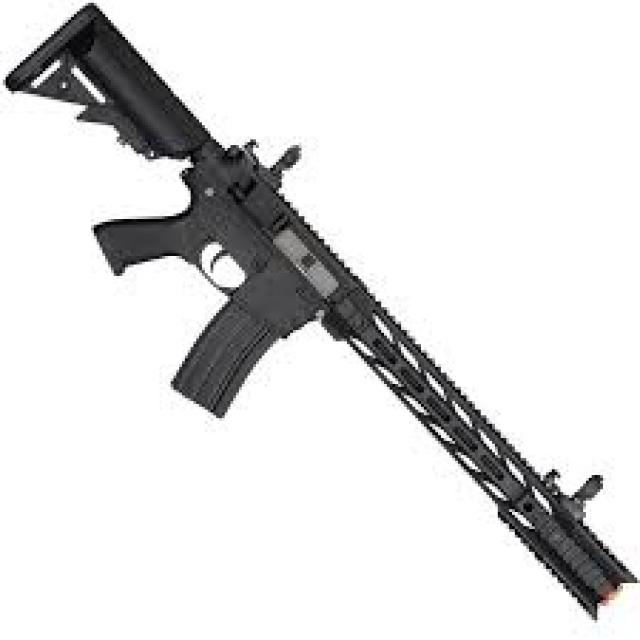rifle: (10, 4, 638, 640)
